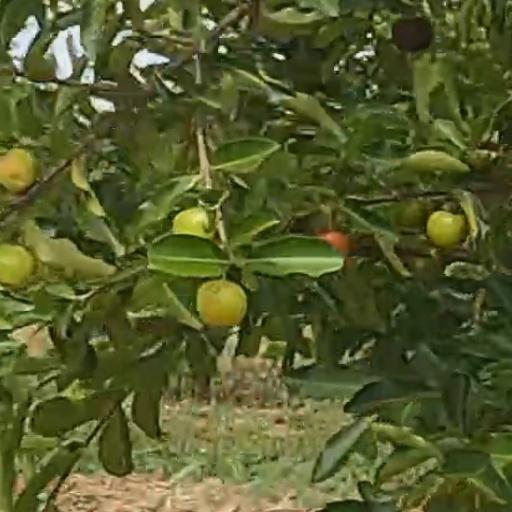acerola: (197, 280, 247, 327), (4, 149, 39, 194), (428, 211, 469, 247), (173, 208, 215, 239), (1, 247, 33, 287), (324, 232, 350, 252)
